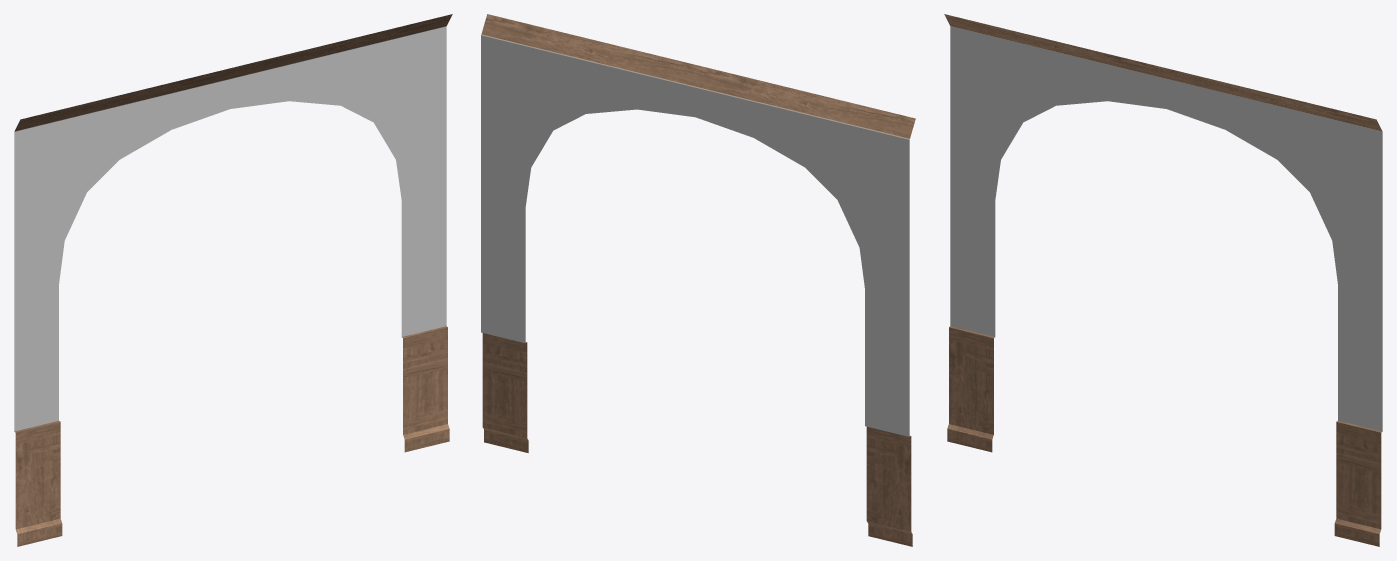
Rendered from WallInt2ArchA.fbx.
The picture shows the model from 3 angles, left to right: view 1: azimuth 30°, elevation 25°; view 2: azimuth 150°, elevation 25°; view 3: azimuth 330°, elevation 25°; orthographic projection.
Parts seen in each view (by area): view 1: WallInt2ArchA; view 2: WallInt2ArchA; view 3: WallInt2ArchA.
Boxes of the visible parts, x1,y1,x2,y2 form: WallInt2ArchA: (14, 14, 452, 546); WallInt2ArchA: (481, 14, 915, 546); WallInt2ArchA: (944, 14, 1382, 546).
Size of the model in its own units: 400 by 380 by 10.
